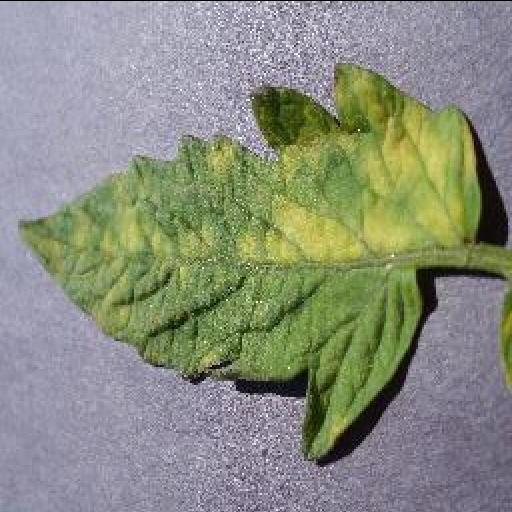disease_tomato: (16, 60, 486, 461)
